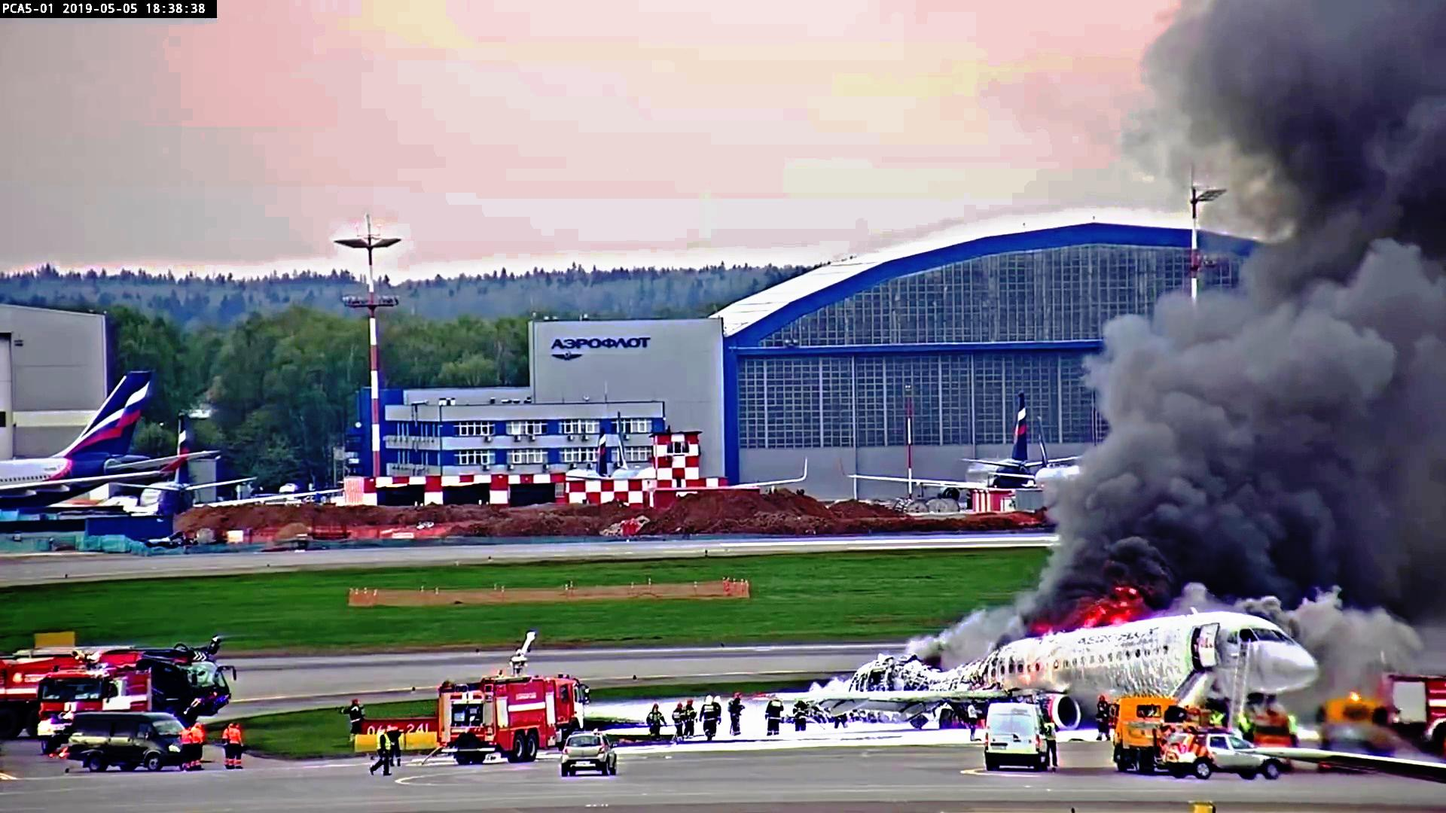smoke: (1083, 253, 1446, 578), (1185, 10, 1446, 268)
